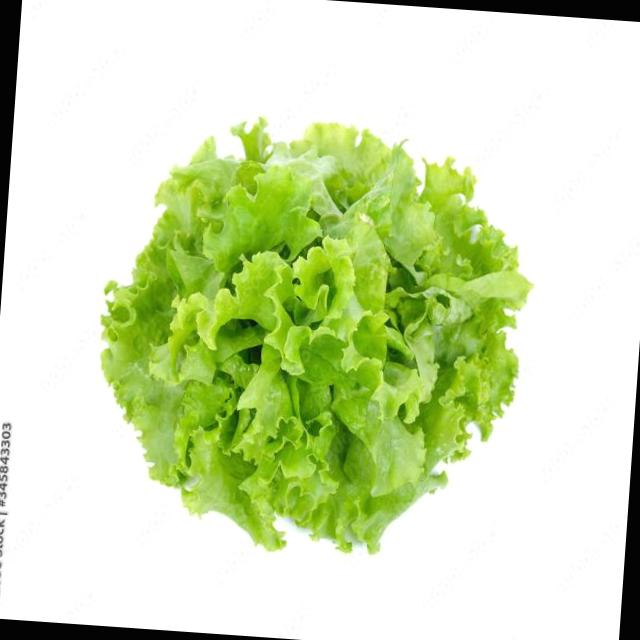Lettuce-Ready-to-Harvest: (96, 118, 532, 557)
